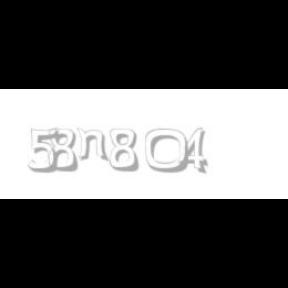4: (178, 128, 208, 174)
5: (28, 128, 58, 174)
8: (48, 128, 78, 172), (110, 128, 138, 172)
O: (144, 128, 190, 174)
n: (76, 128, 110, 162)
